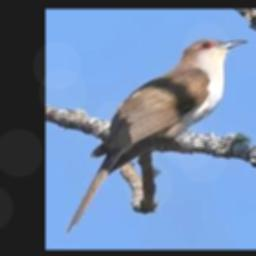Cuckoo: (66, 39, 248, 232)
